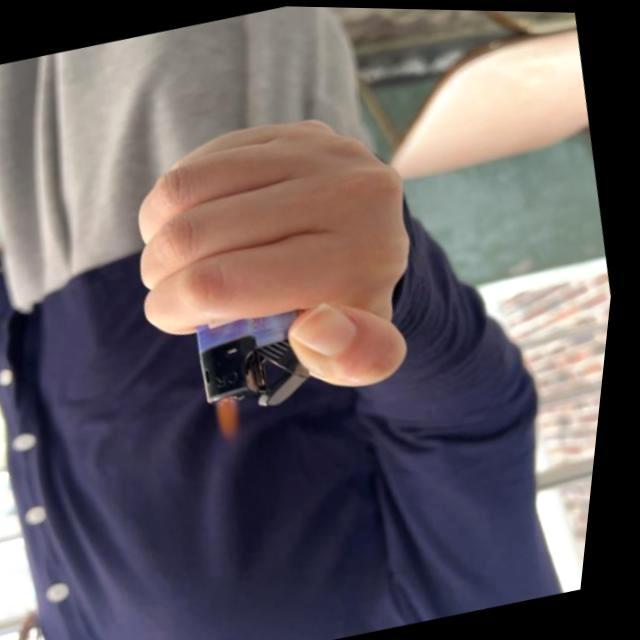fire: (222, 392, 258, 441)
